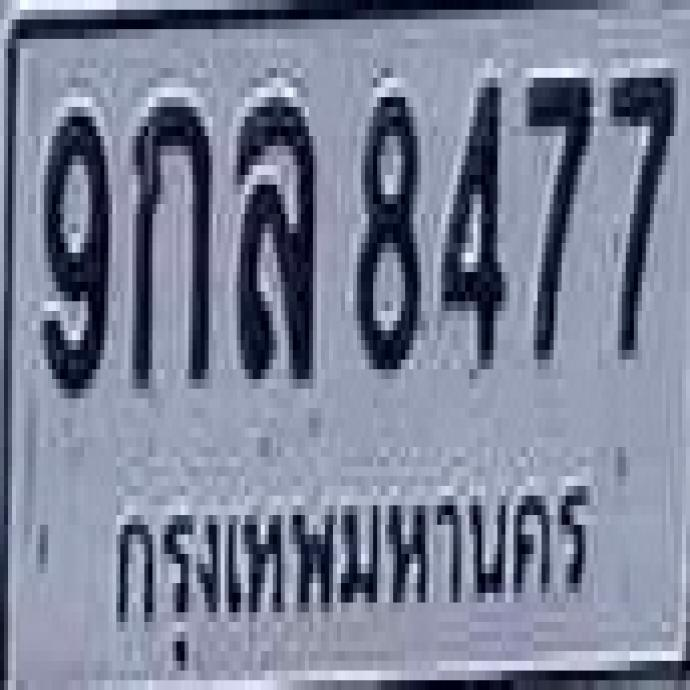4: (437, 69, 500, 360)
7: (523, 70, 589, 354), (606, 63, 671, 350)
8: (353, 87, 416, 365)
9: (39, 100, 105, 388)
A01: (128, 92, 207, 382)
A36: (233, 90, 312, 373)
BKK: (102, 463, 600, 655)
